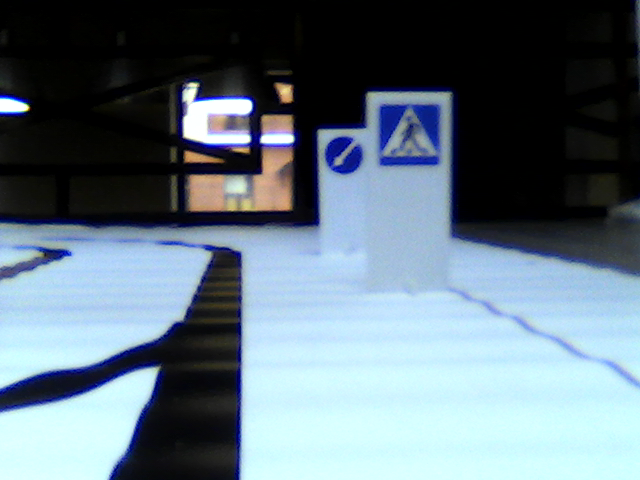pesh: (378, 100, 442, 169)
prep: (325, 135, 364, 173)
